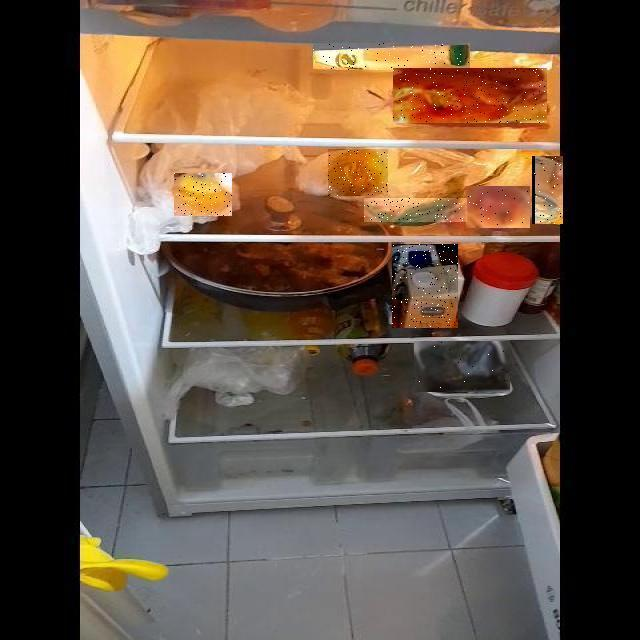broccoli: (159, 196, 640, 588)
carrot: (119, 62, 640, 185)
milk: (163, 164, 621, 492), (78, 35, 548, 105)
